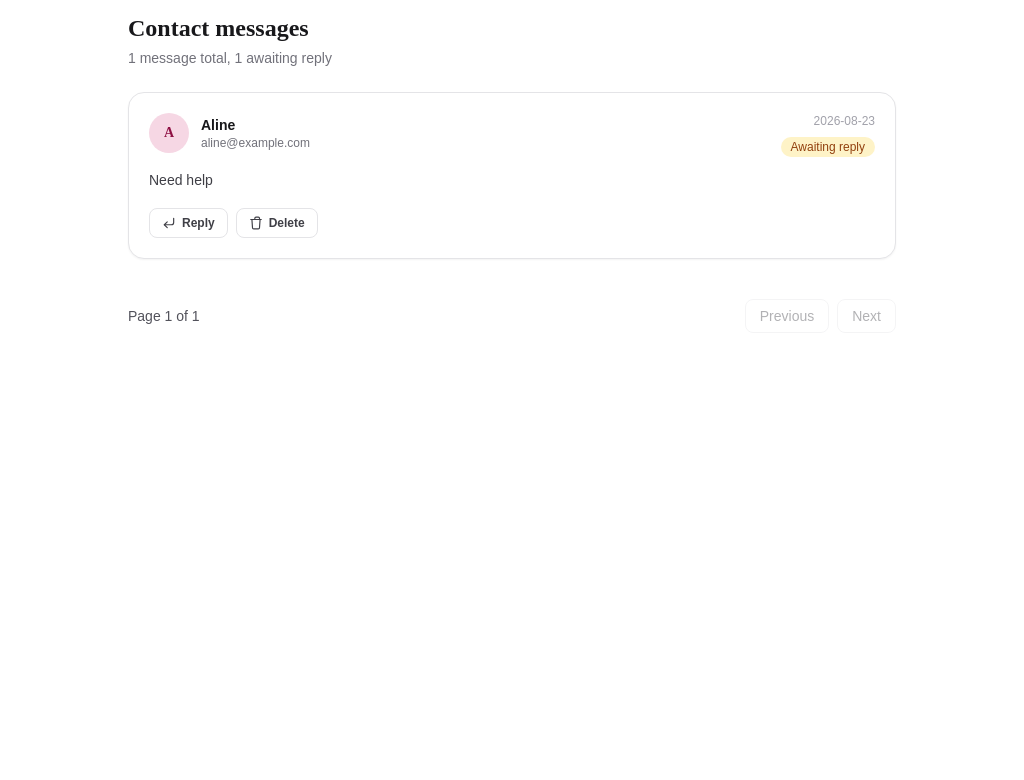
Test: AdminMessages › sends a reply and shows it inline
Click the button "Reply" at (188, 223), box [149,208,228,238]
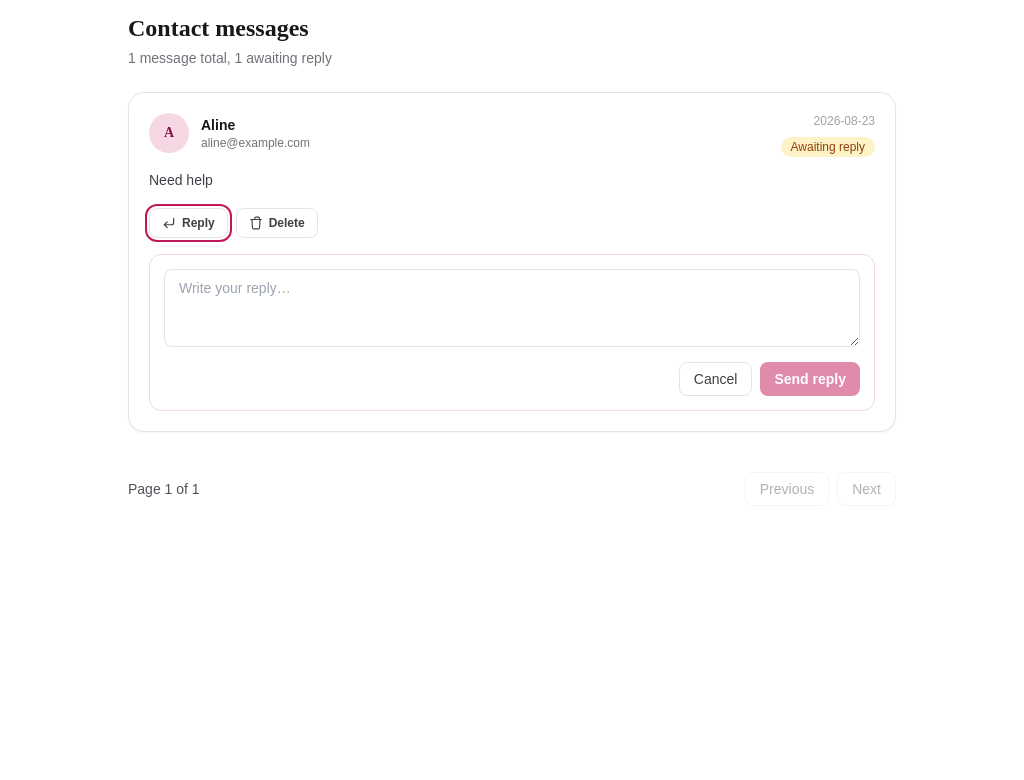
Type "Here is how to do it." into the text box named "reply to aline" at (512, 308), box [164,269,860,347]
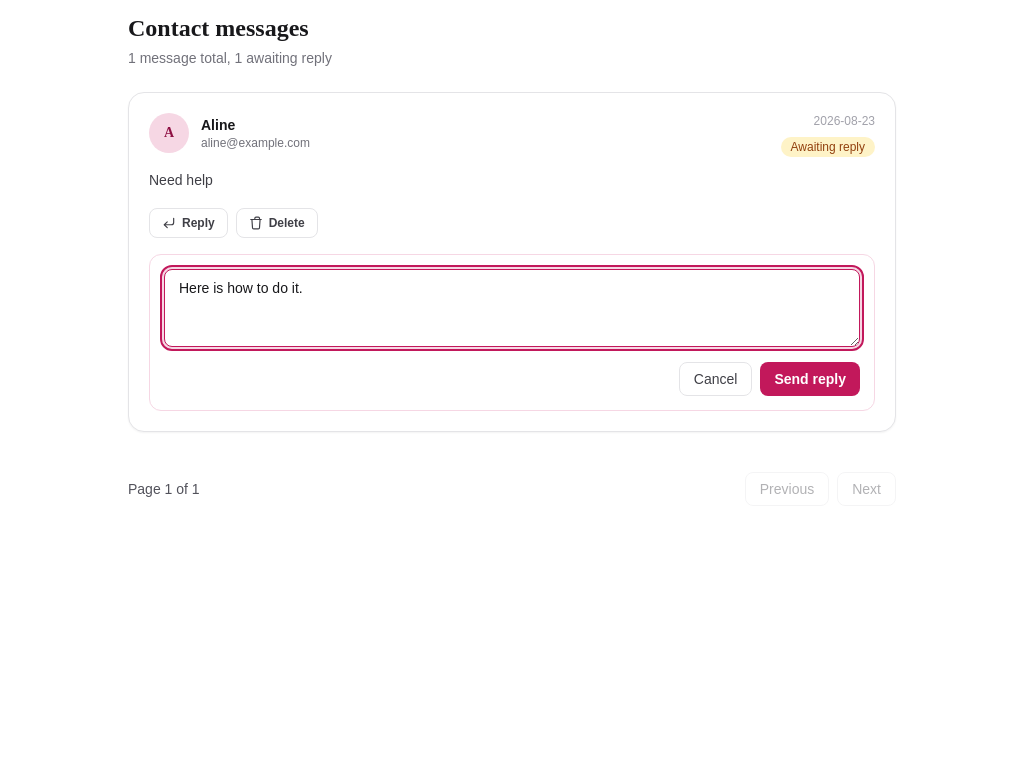
Click the button "Send reply" at (810, 379), box [760,362,860,396]
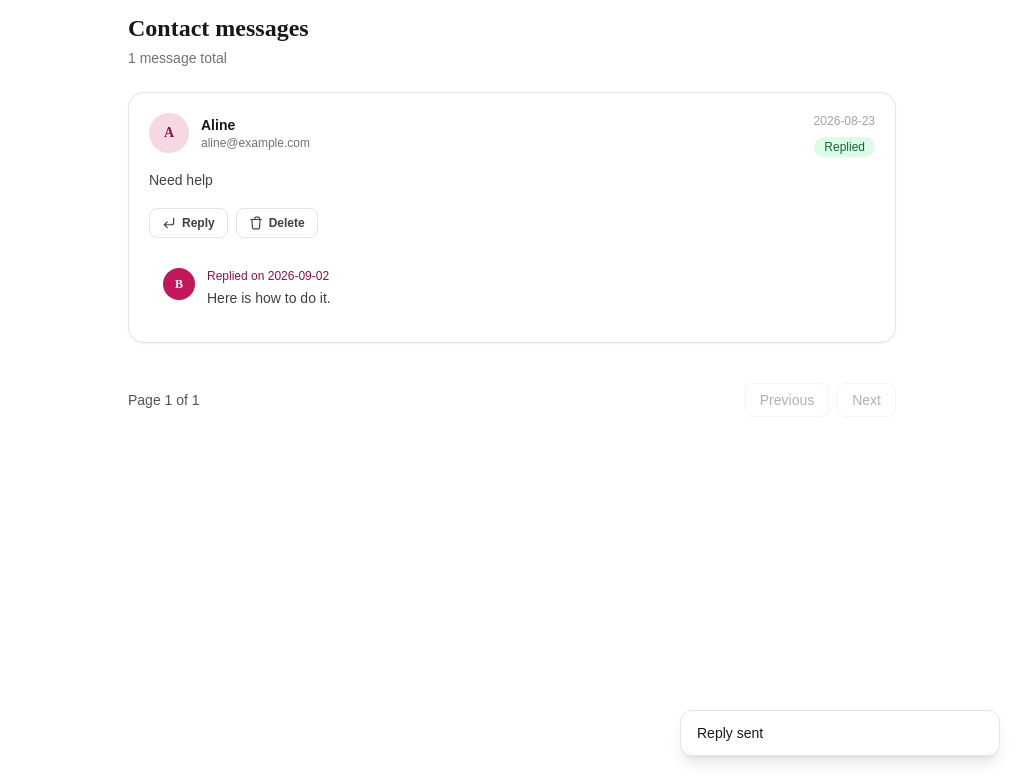
Result: the text "Reply sent" is shown at [697,725,763,741]
Result: the text "Here is how to do it." is shown at [207,288,331,308]
